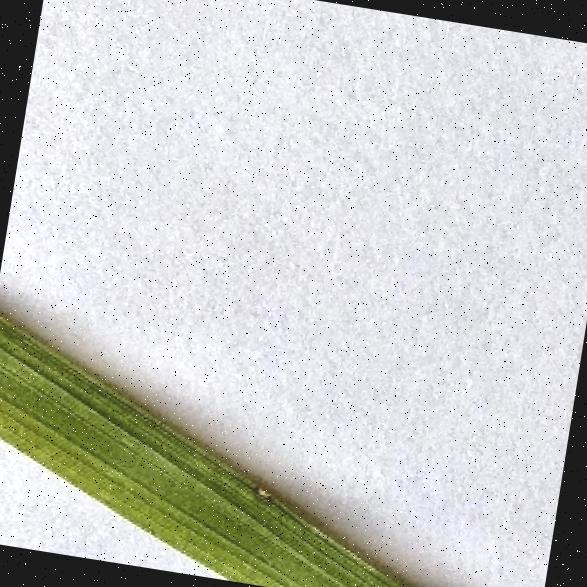Leaf_smut: (235, 476, 274, 516)
